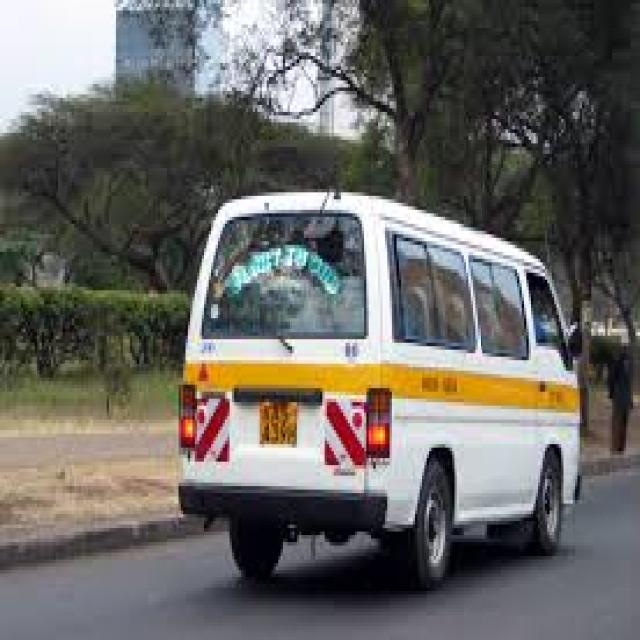matatu: (145, 110, 615, 603)
